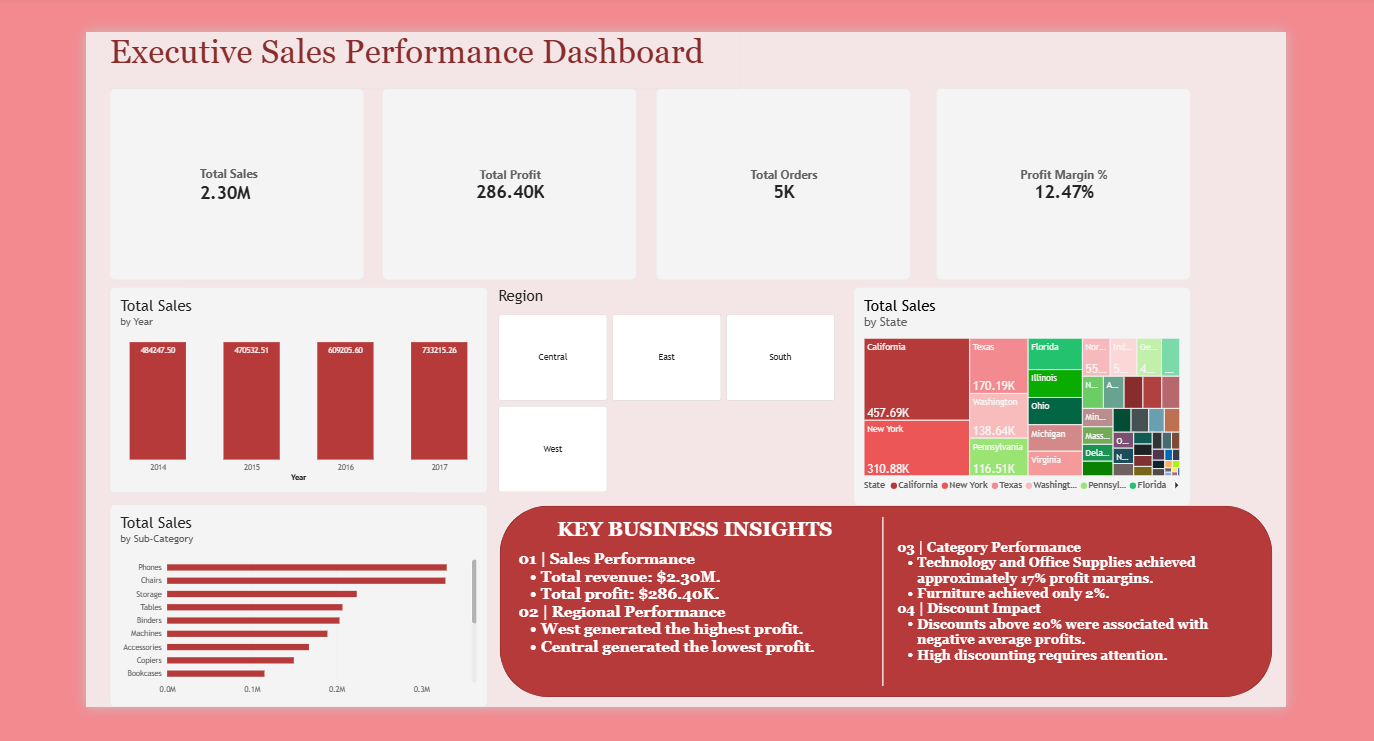

The dashboard page shown, as its layout file describes it:
{"tool":"powerbi","page":{"name":"Page 1","canvas":[1920,1080],"ordinal":0},"visuals":[{"type":"cardVisual","fields":{"Data":["raw_data.Total Sales"]},"box":[38,90.5,407.2,307.6],"z":0},{"type":"cardVisual","fields":{"Data":["raw_data.Total Profit"]},"box":[474.1,90.5,407.2,307.6],"z":1000},{"type":"cardVisual","fields":{"Data":["raw_data.Total Orders"]},"box":[912.1,90.5,407.2,307.6],"z":2000},{"type":"cardVisual","fields":{"Data":["raw_data.Profit Margin %"]},"box":[1360.9,90.5,407.2,307.6],"z":3000},{"type":"clusteredColumnChart","fields":{"Category":["raw_data.Order Date.Variation.Date Hierarchy.Year","raw_data.Order Date.Variation.Date Hierarchy.Quarter","raw_data.Order Date.Variation.Date Hierarchy.Month","raw_data.Order Date.Variation.Date Hierarchy.Day"],"Y":["raw_data.Total Sales"]},"box":[38,407.2,604.4,329.4],"z":4000},{"type":"clusteredBarChart","fields":{"Category":["raw_data.Sub-Category"],"Y":["raw_data.Total Sales"]},"box":[38,756.4,604.4,323.9],"z":5000},{"type":"advancedSlicerVisual","fields":{"Values":["raw_data.Region"]},"box":[660.5,407.2,539.3,329.4],"z":6000},{"type":"treemap","fields":{"Group":["raw_data.State"],"Values":["raw_data.Total Sales"]},"box":[1228.8,407.2,539.3,349.3],"z":7000},{"type":"textbox","box":[38,0,1006.2,90.5],"z":8000},{"type":"shape","box":[662,758,1236,306],"z":10000},{"type":"shape","box":[1200,776,150,270],"z":11000},{"type":"textbox","box":[692,776,564,270],"z":11001},{"type":"textbox","box":[1298,812,556,234],"z":11002}]}

Visuals, with their boxes on the page's 1920x1080 design canvas (x1, y1, x2, y2). These are canvas units, not pixel positions in the 1374x741 screenshot, which may show the page scaled, cropped or inside an application window:
cardVisual - raw_data.Total Sales: {"left": 38, "top": 90, "right": 445, "bottom": 398}
cardVisual - raw_data.Total Profit: {"left": 474, "top": 90, "right": 881, "bottom": 398}
cardVisual - raw_data.Total Orders: {"left": 912, "top": 90, "right": 1319, "bottom": 398}
cardVisual - raw_data.Profit Margin %: {"left": 1361, "top": 90, "right": 1768, "bottom": 398}
clusteredColumnChart - raw_data.Order Date.Variation.Date Hierarchy.Year x raw_data.Order Date.Variation.Date Hierarchy.Quarter: {"left": 38, "top": 407, "right": 642, "bottom": 737}
clusteredBarChart - raw_data.Sub-Category x raw_data.Total Sales: {"left": 38, "top": 756, "right": 642, "bottom": 1080}
advancedSlicerVisual - raw_data.Region: {"left": 660, "top": 407, "right": 1200, "bottom": 737}
treemap - raw_data.State x raw_data.Total Sales: {"left": 1229, "top": 407, "right": 1768, "bottom": 756}
textbox: {"left": 38, "top": 0, "right": 1044, "bottom": 90}
shape: {"left": 662, "top": 758, "right": 1898, "bottom": 1064}
shape: {"left": 1200, "top": 776, "right": 1350, "bottom": 1046}
textbox: {"left": 692, "top": 776, "right": 1256, "bottom": 1046}
textbox: {"left": 1298, "top": 812, "right": 1854, "bottom": 1046}
